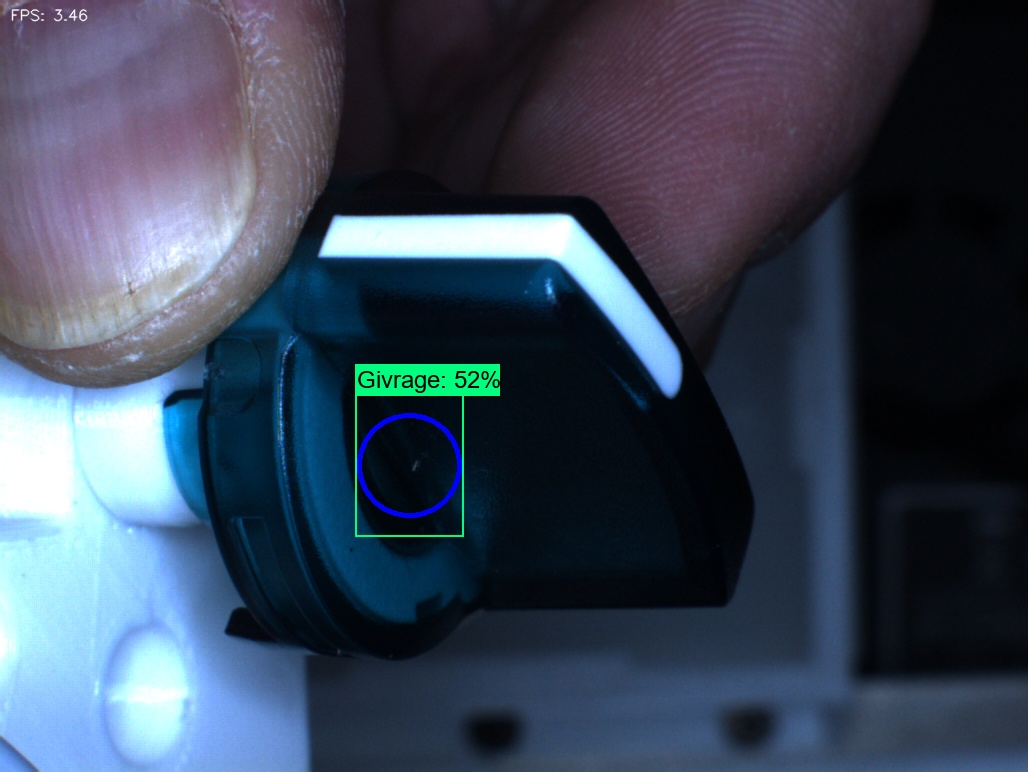PointNoir: (326, 521, 382, 578)
